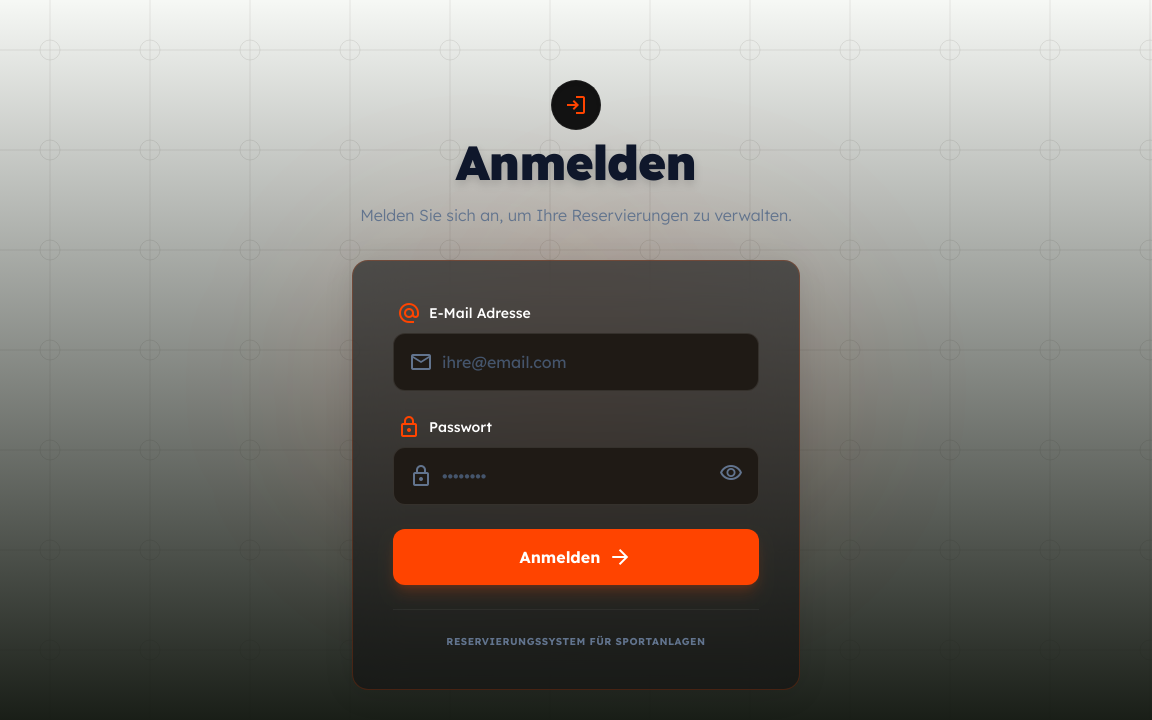
it: Login Page › progresses to TOTP input if required
The width and height of the screenshot is (1152, 720).
Type "user@test.com" into the field labelled "E-Mail Adresse" at (576, 362), box x1=393 y1=333 x2=759 y2=391
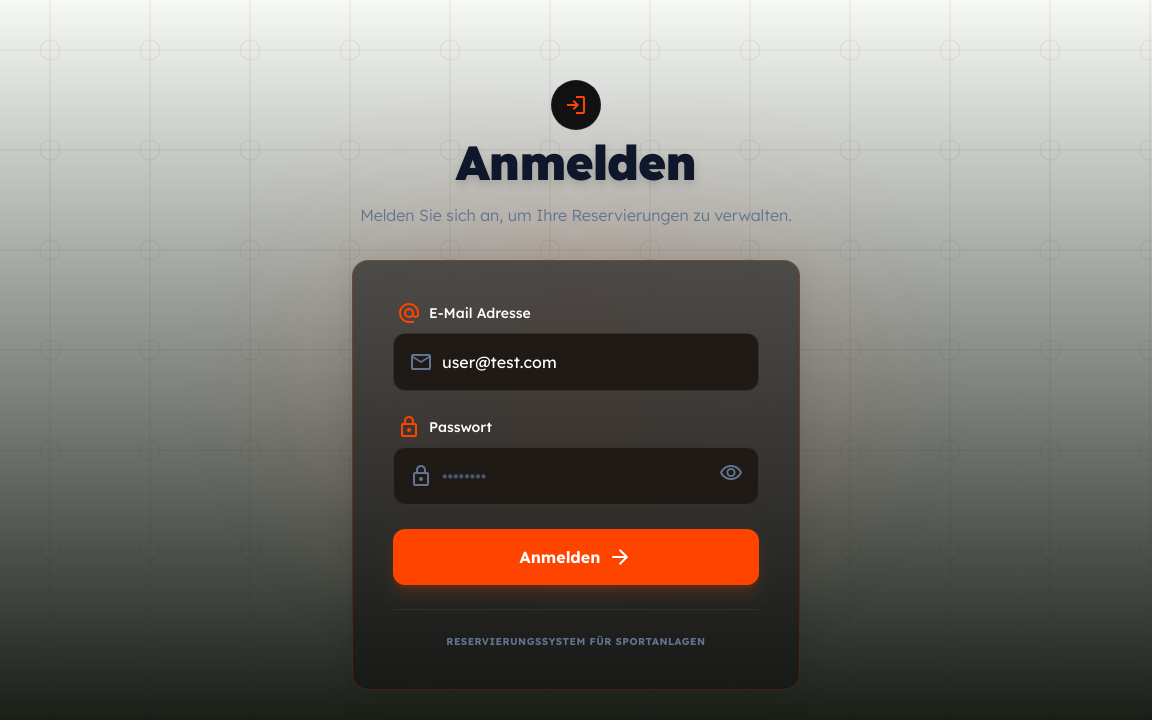
Type "correctpass" into the password field labelled "Passwort" at (576, 476), box x1=393 y1=447 x2=759 y2=505
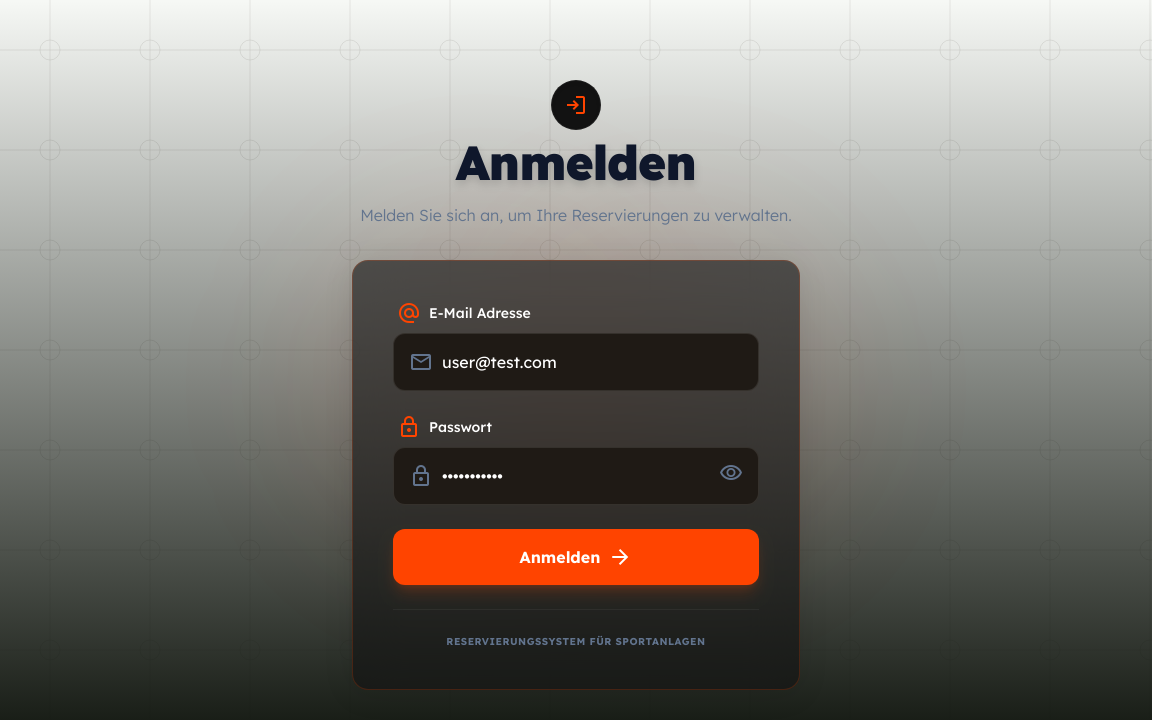
Click the button "Anmelden" at (576, 557), box x1=393 y1=529 x2=759 y2=585
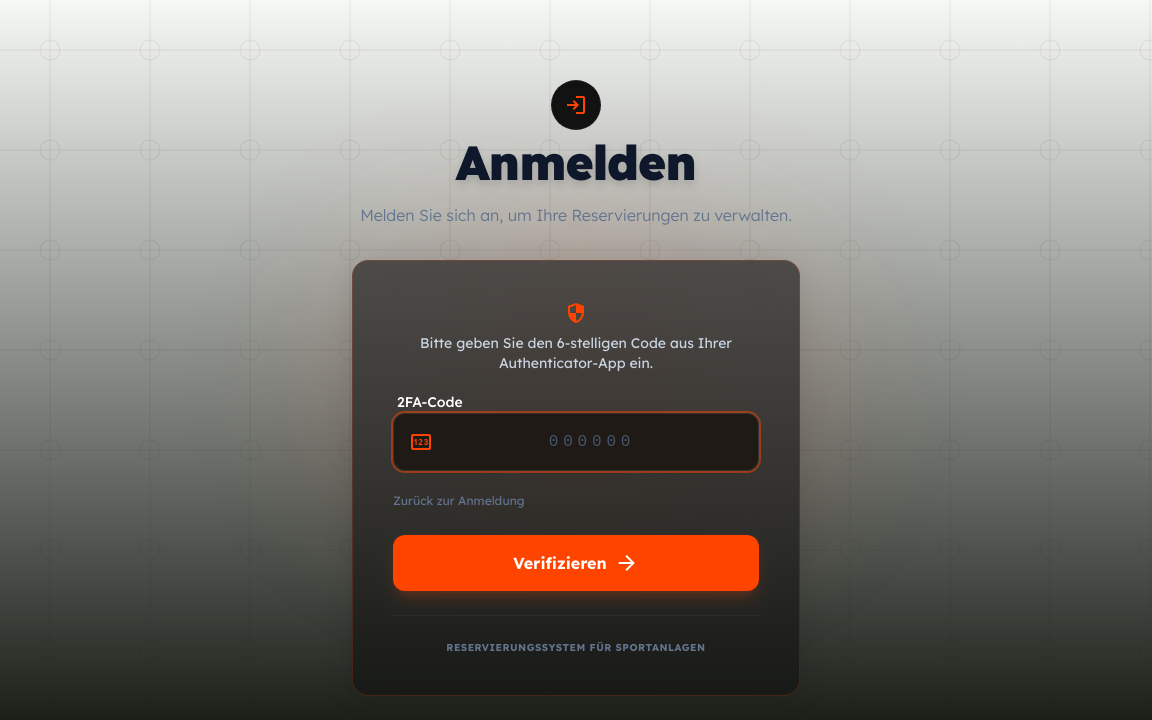
expect the field labelled "2FA-Code" is shown: met, box x1=393 y1=413 x2=759 y2=471
expect the button "Verifizieren" is shown: met, box x1=393 y1=535 x2=759 y2=591
